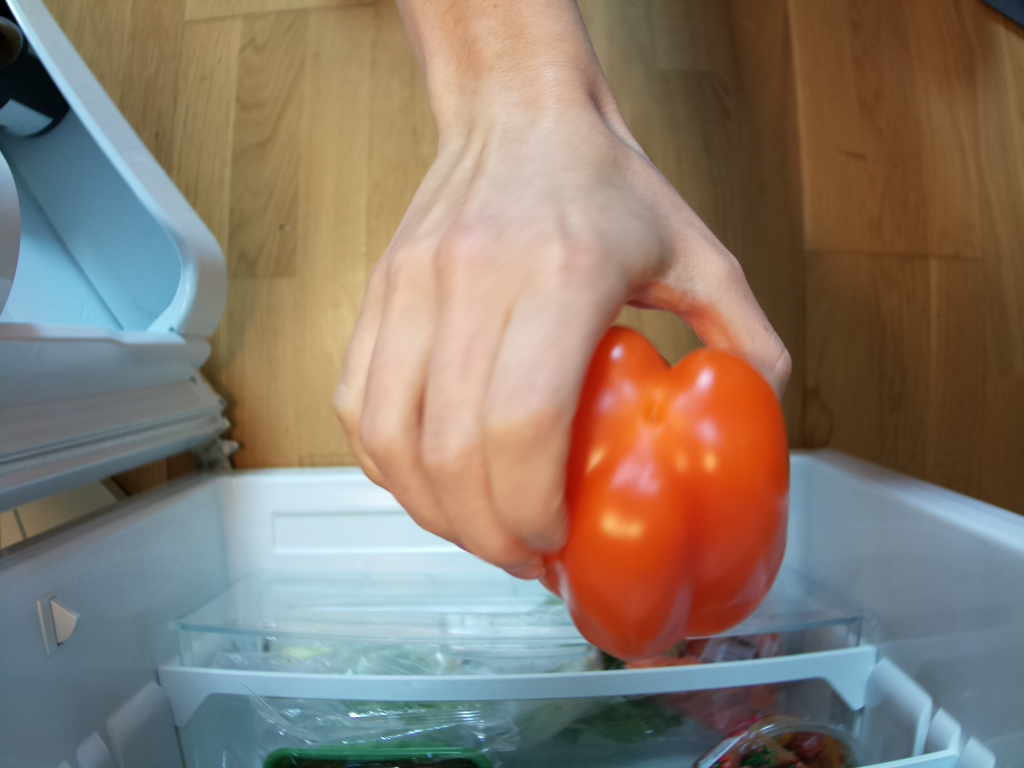pepper: (536, 321, 790, 660)
